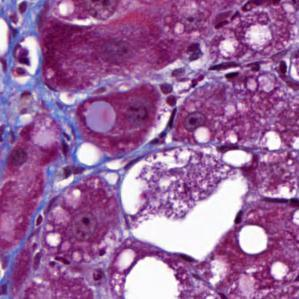ballooning: (116, 144, 252, 265)
